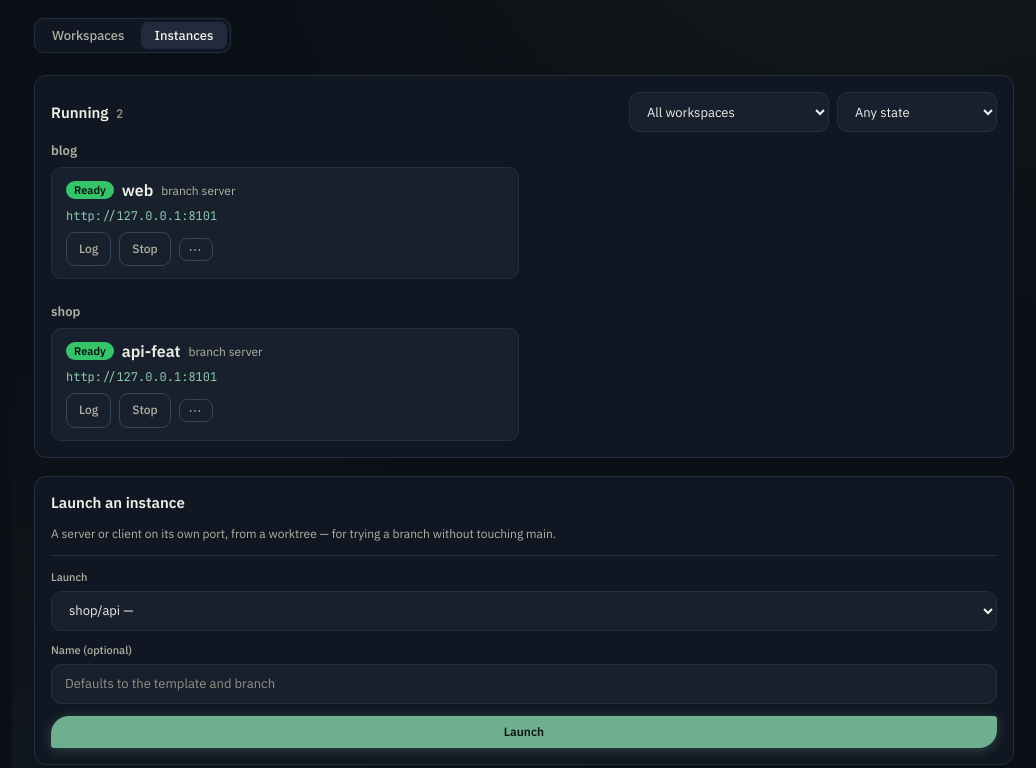
Test: filters to one workspace: its instances and its launch choices
Check: the heading "shop" is shown, box [51,303,80,320]
Select "Blog" in the 1st dropdown named "Workspace" at (729, 112), box [629,92,829,132]
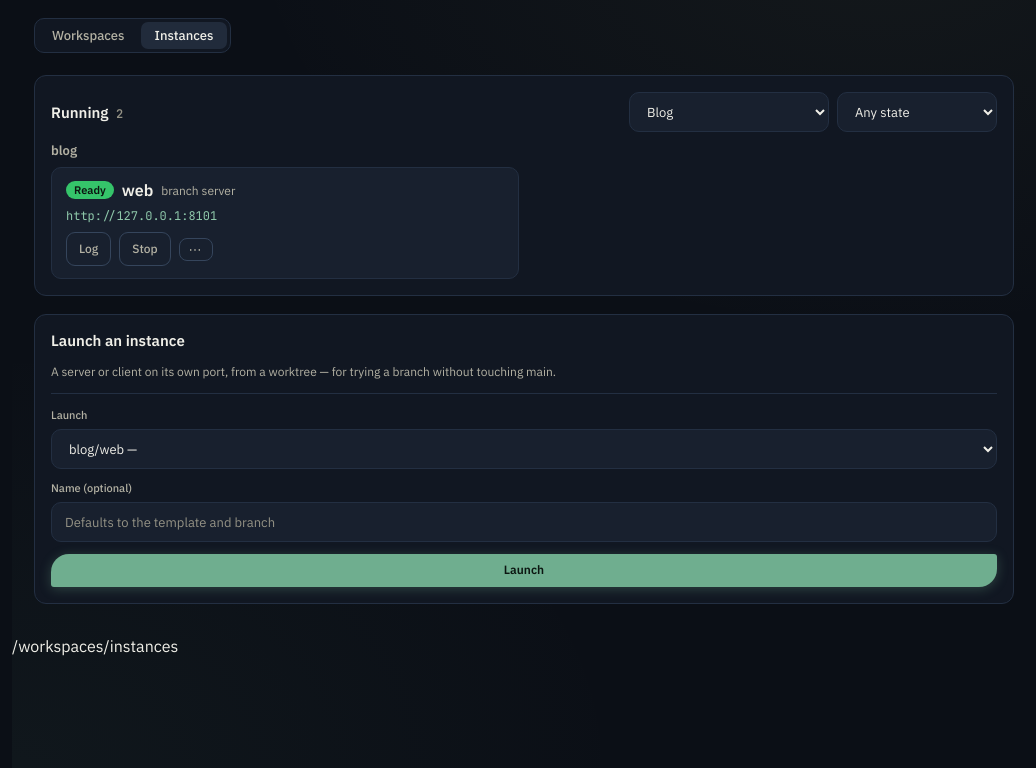
Check: the heading "shop" is gone
